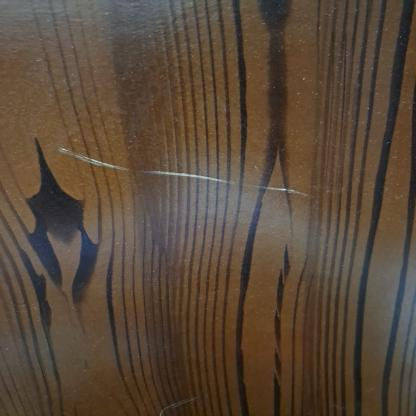spot: (52, 139, 338, 211)
